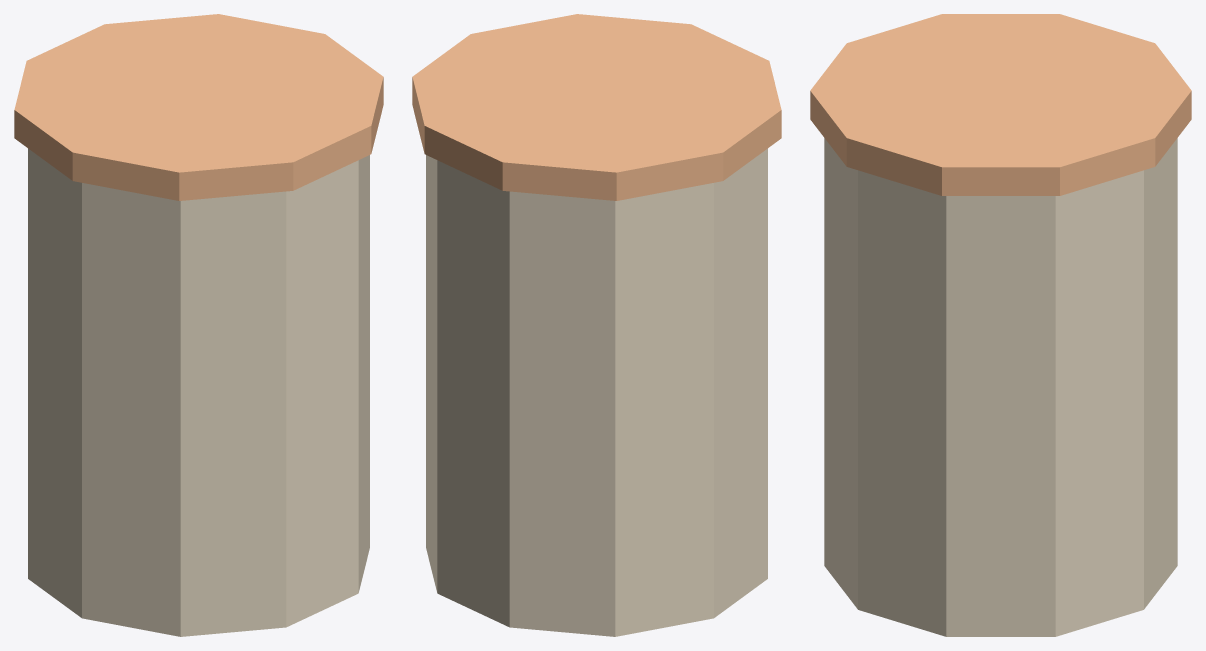
3 renders of one model, left to right at view 1: azimuth 30°, elevation 25°; view 2: azimuth 150°, elevation 25°; view 3: azimuth 270°, elevation 25°, orthographic.
Visible parts, largest first — view 1: Feed bin, Lid; view 2: Feed bin, Lid; view 3: Feed bin, Lid.
Boxes of the visible parts, x1,y1,x2,y2 form: Feed bin: (28,148,369,636); Lid: (14,14,383,200); Feed bin: (426,148,767,636); Lid: (412,14,781,200); Feed bin: (824,138,1177,636); Lid: (810,14,1191,195).
Bounding box in the file's own units: 0.5136 × 0.7425 × 0.54.
Materials: 1 (1 with a texture image).
